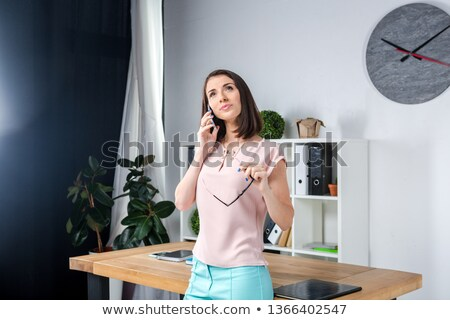phone: (202, 102, 224, 136)
talk: (197, 84, 241, 142)
